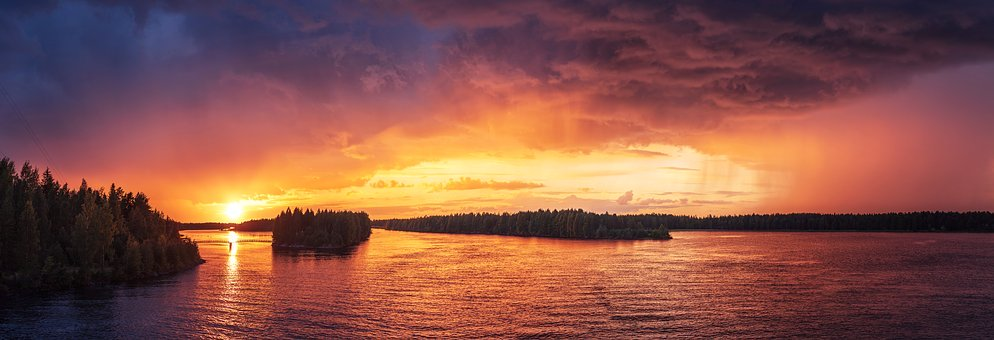lake: (88, 210, 993, 334)
sky: (5, 3, 990, 208)
